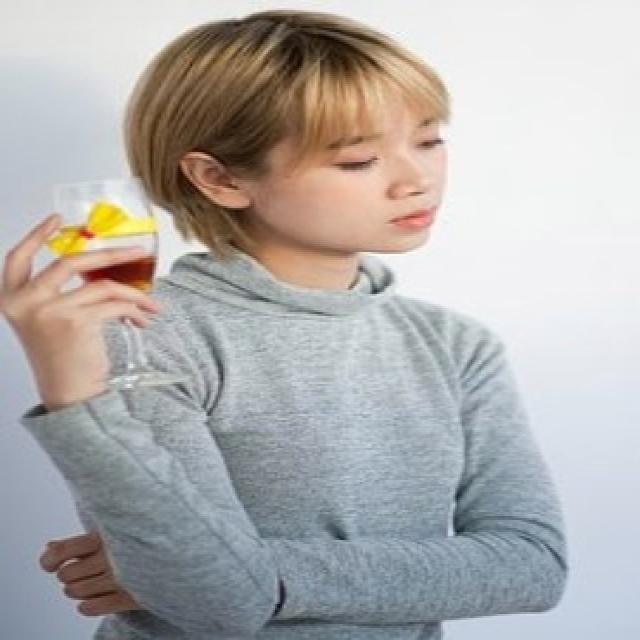adult: (0, 6, 569, 640)
